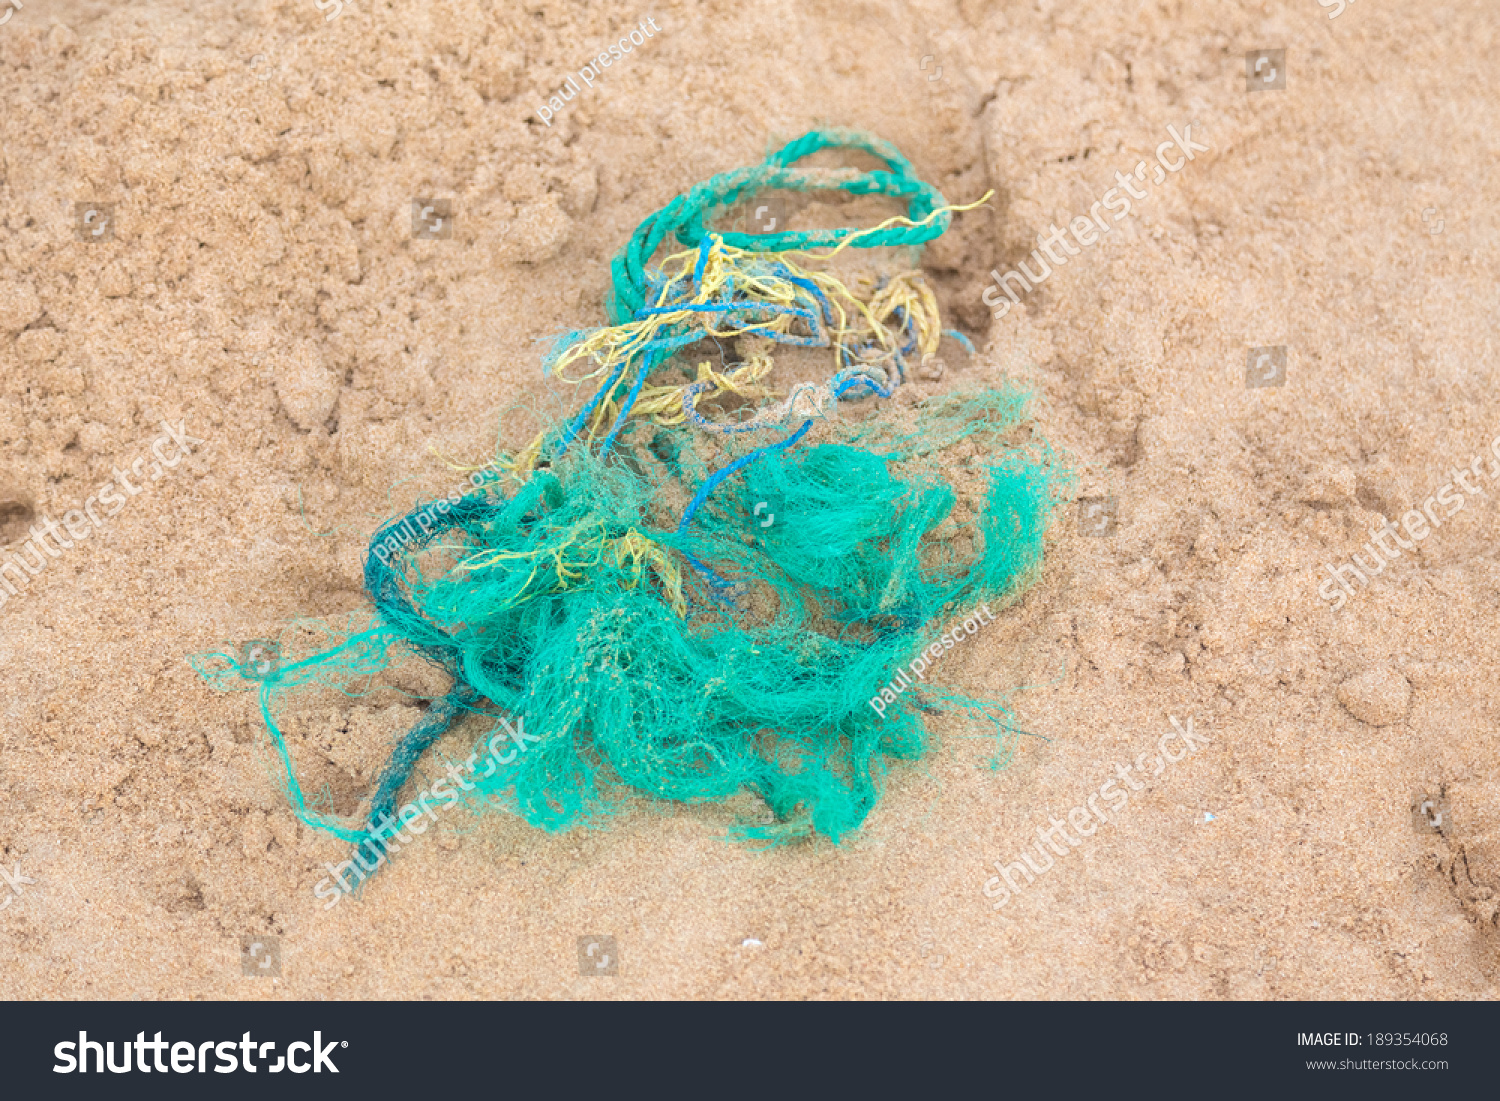fishingnet: (257, 117, 1057, 851)
